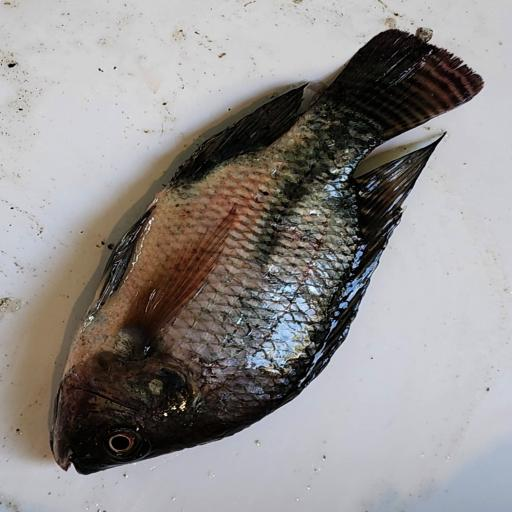Tilapia: (47, 28, 485, 476)
